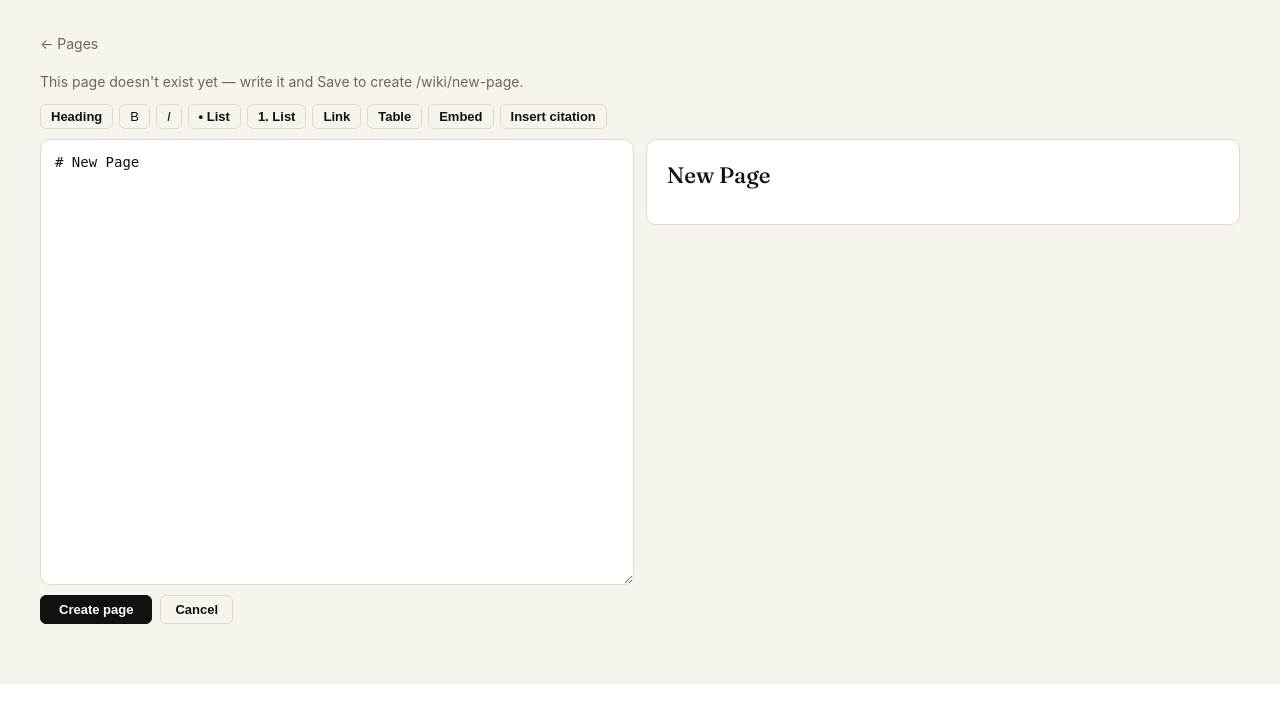
Test: WikiPageView editing (P5-49) › a page that does not exist yet opens straight into the editor with the title prefilled
The width and height of the screenshot is (1280, 720).
Click the button with test id "save-page".
click(96, 609)  # box [40,595,152,624]
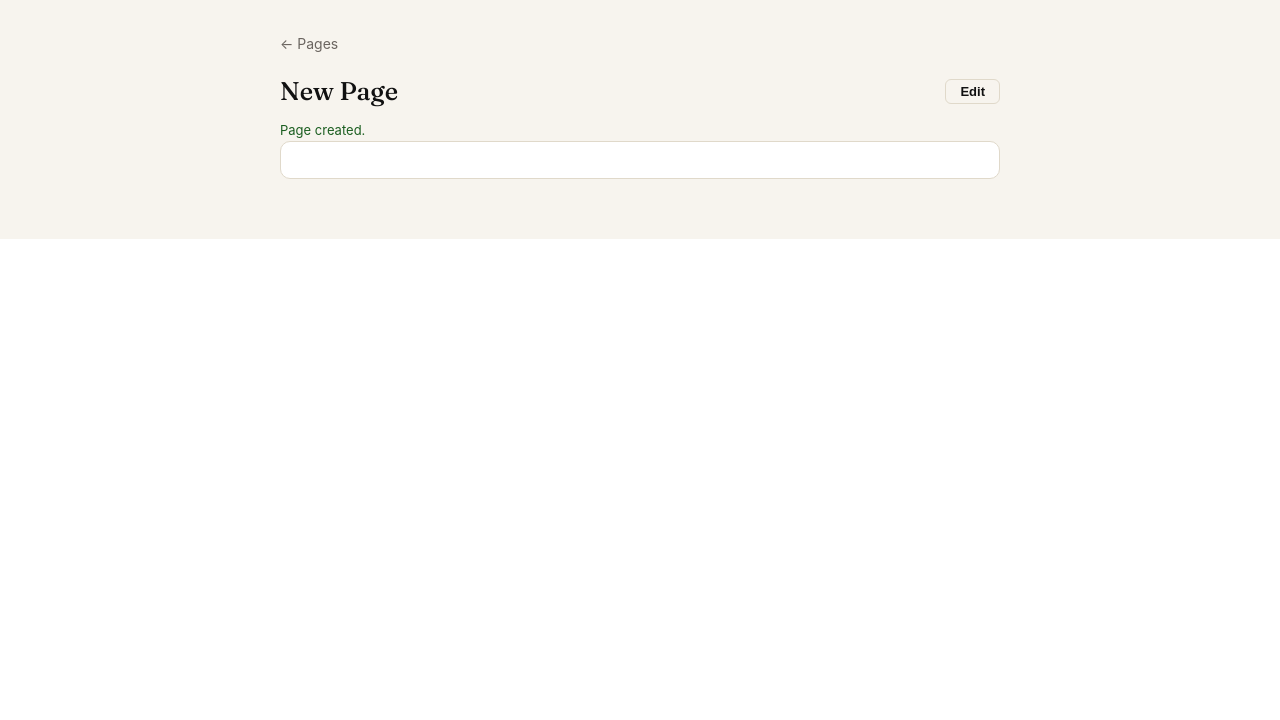
Expected: the text with class "save-note" reads "Page created.", [280,122,365,138]
